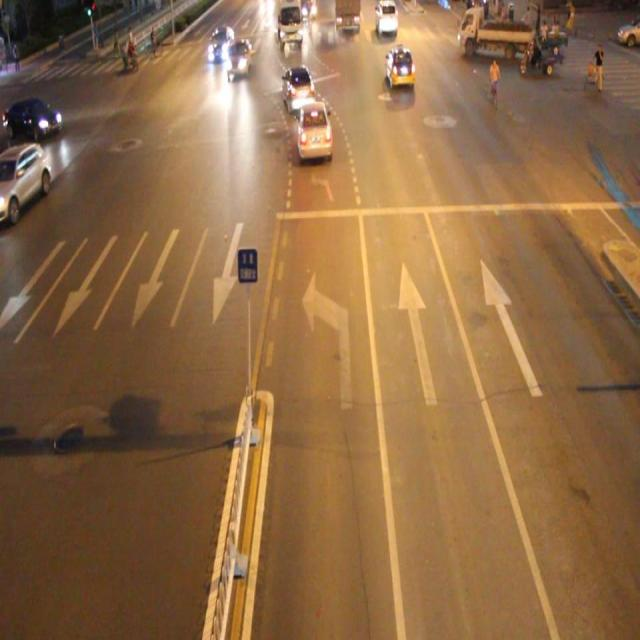car: (1, 140, 51, 225), (296, 100, 335, 163), (281, 63, 317, 116), (386, 46, 415, 88)
